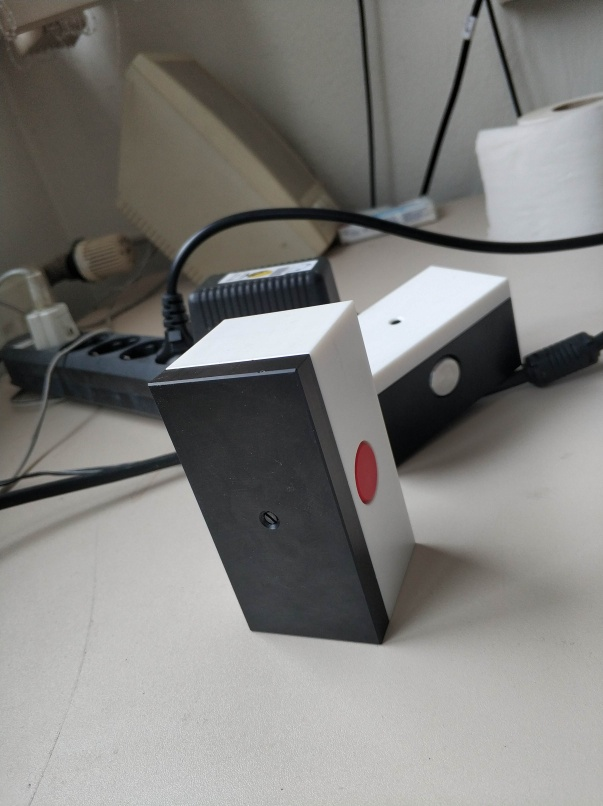black+white+red: (144, 299, 419, 649)
white+black+silver: (357, 262, 525, 469)
